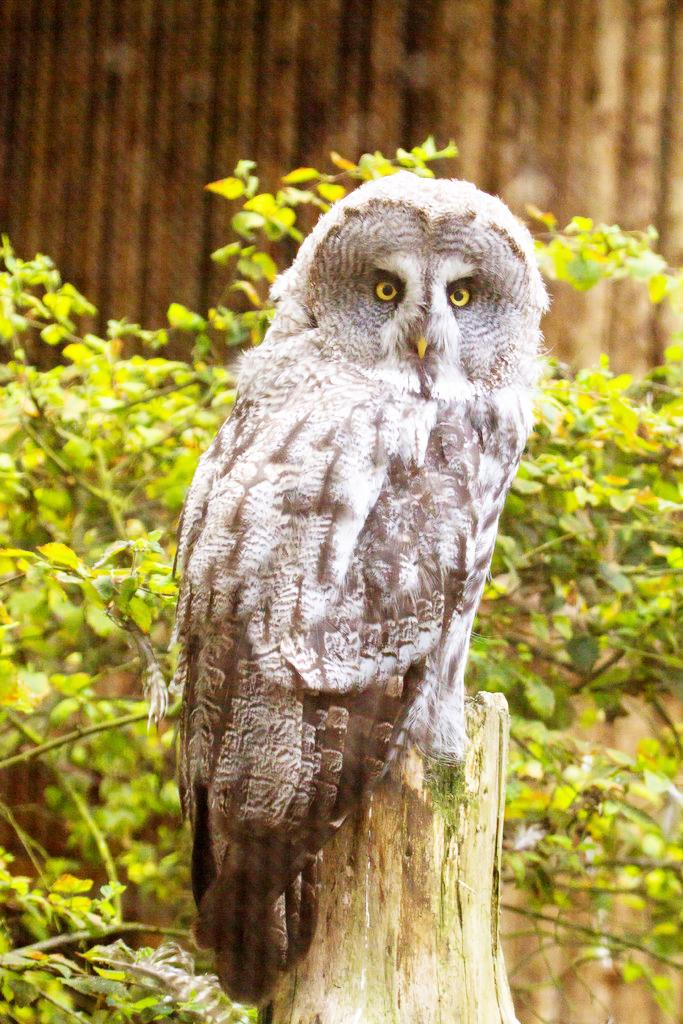Owl: (148, 169, 550, 1009)
